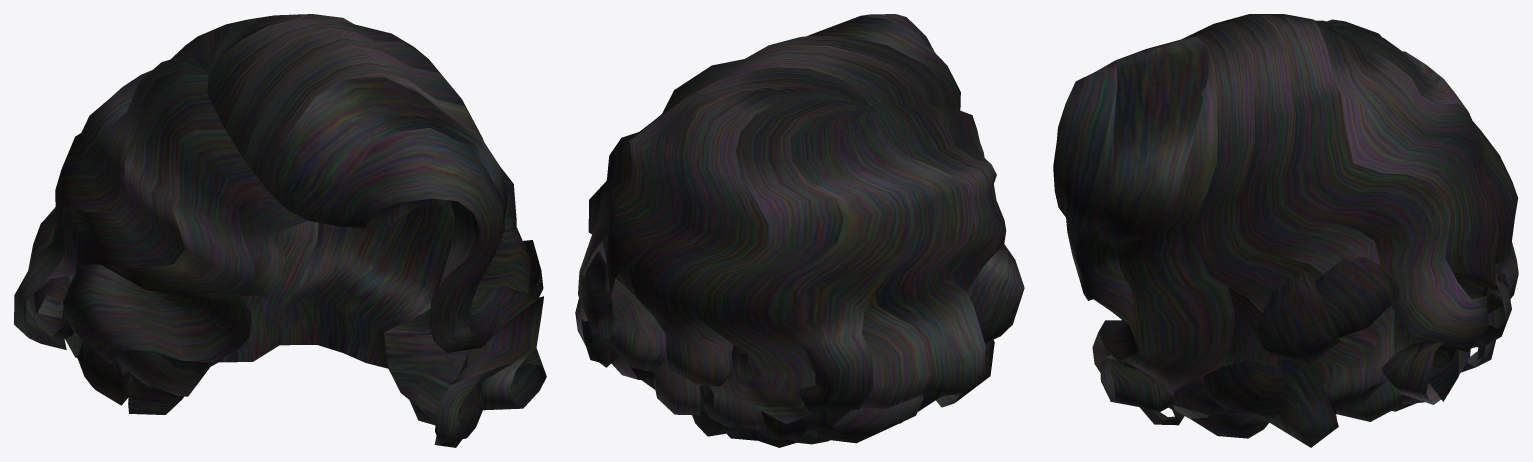
File: mh_elvs_wavy_bob.glb
3 renders of one model, left to right at view 1: azimuth 30°, elevation 25°; view 2: azimuth 150°, elevation 25°; view 3: azimuth 270°, elevation 25°, orthographic. The views are drawn at different scales.
Visible parts, largest first — view 1: mh_elvs_wavy_bob; view 2: mh_elvs_wavy_bob; view 3: mh_elvs_wavy_bob.
Boxes of the visible parts, x1,y1,x2,y2 form: mh_elvs_wavy_bob: (14,14,546,447); mh_elvs_wavy_bob: (575,14,1024,447); mh_elvs_wavy_bob: (1053,14,1518,447).
Bounding box in the file's own units: 0.3035 × 0.2514 × 0.295.
1 material, 1 textured.
